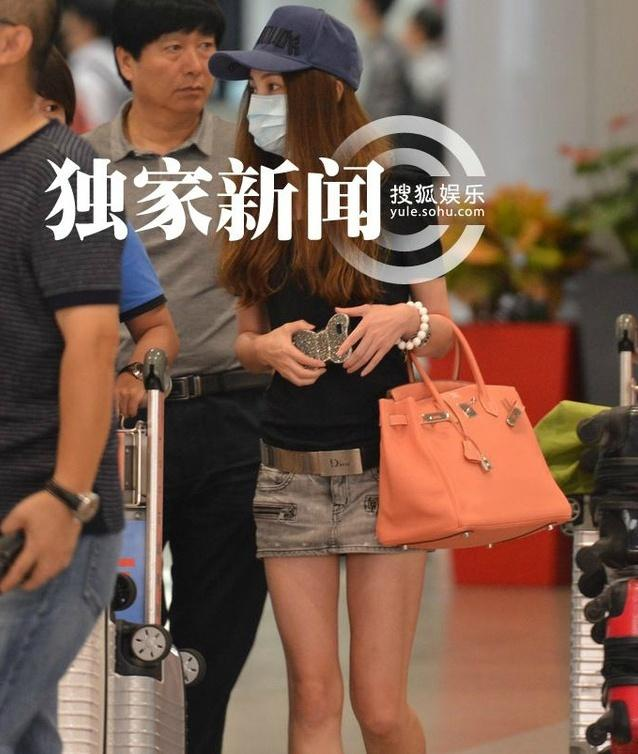face: (136, 15, 213, 114)
face_mask: (250, 52, 293, 162)
